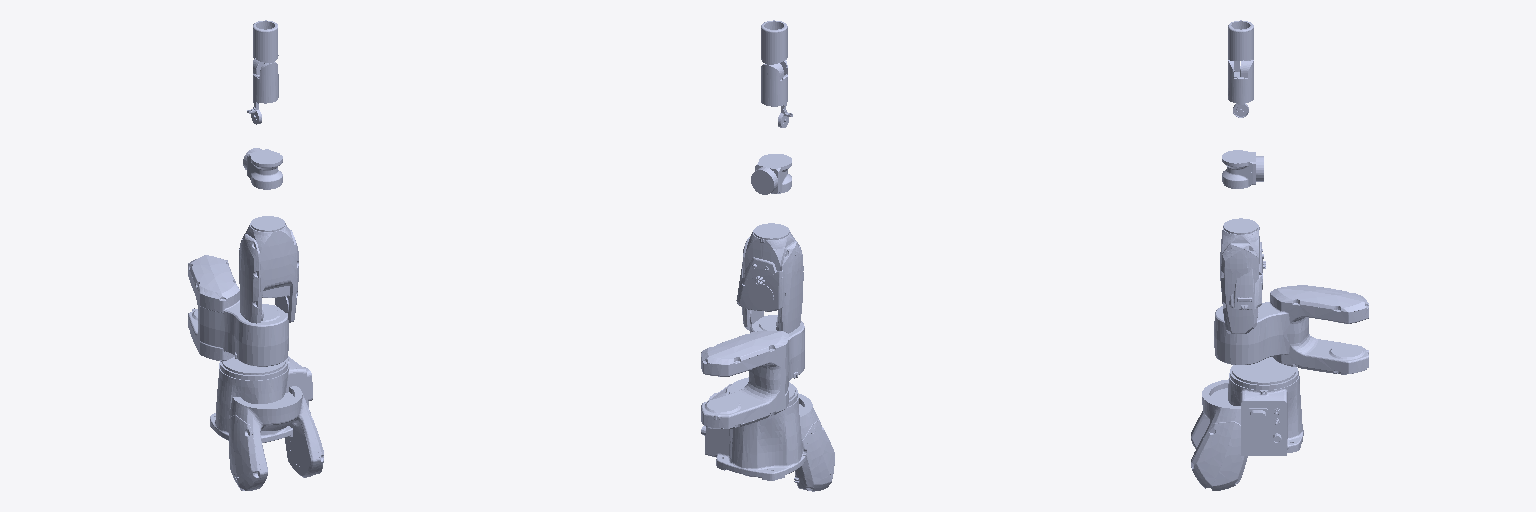
robot.urdf — snake_arm_description:
<?xml version="1.0"?>
<robot
  name="snake_arm_description">

  <link name="world" />

  <joint name="world_to_base_link" type="fixed">
    <parent link="world"/>
    <child link="link_0"/>
  </joint>

  <link
    name="link_0">
    <inertial>
      <origin
        xyz="-4.4729E-05 0.0001093 0.075199"
        rpy="0 0 0" />
      <mass
        value="0.48102" />
      <inertia
        ixx="0.0016739"
        ixy="1.507E-06"
        ixz="1.7594E-06"
        iyy="0.0017323"
        iyz="-4.257E-05"
        izz="0.0005214" />
    </inertial>
    <visual>
      <origin
        xyz="0 0 0"
        rpy="0 0 0" />
      <geometry>
        <mesh
          filename="package://snake_arm_description/meshes/link_0.STL" />
      </geometry>
      <material
        name="">
        <color
          rgba="0.79216 0.81961 0.93333 1" />
      </material>
    </visual>
    <collision>
      <origin
        xyz="0 0 0"
        rpy="0 0 0" />
      <geometry>
        <mesh
          filename="package://snake_arm_description/meshes/link_0.STL" />
      </geometry>
    </collision>
  </link>
  <link
    name="link_1">
    <inertial>
      <origin
        xyz="0.00871 -0.0013532 0.1245"
        rpy="0 0 0" />
      <mass
        value="0.37472" />
      <inertia
        ixx="0.0011935"
        ixy="-8.7083E-07"
        ixz="-4.8583E-05"
        iyy="0.0012712"
        iyz="3.2382E-05"
        izz="0.00034763" />
    </inertial>
    <visual>
      <origin
        xyz="0 0 0"
        rpy="0 0 0" />
      <geometry>
        <mesh
          filename="package://snake_arm_description/meshes/link_1.STL" />
      </geometry>
      <material
        name="">
        <color
          rgba="0.79216 0.81961 0.93333 1" />
      </material>
    </visual>
    <collision>
      <origin
        xyz="0 0 0"
        rpy="0 0 0" />
      <geometry>
        <mesh
          filename="package://snake_arm_description/meshes/link_1.STL" />
      </geometry>
    </collision>
  </link>
  <joint
    name="joint_0"
    type="revolute">
    <origin
      xyz="0 -0.01 0.135"
      rpy="0 0 1.5708" />
    <parent
      link="link_0" />
    <child
      link="link_1" />
    <axis
      xyz="1 0 0" />
    <limit
      lower="-1.5708"
      upper="1.5708"
      effort="0"
      velocity="0.1745" />
  </joint>
  <link
    name="link_2">
    <inertial>
      <origin
        xyz="0.00871 -0.0013532 0.1245"
        rpy="0 0 0" />
      <mass
        value="0.37472" />
      <inertia
        ixx="0.0011935"
        ixy="-8.7083E-07"
        ixz="-4.8583E-05"
        iyy="0.0012712"
        iyz="3.2382E-05"
        izz="0.00034763" />
    </inertial>
    <visual>
      <origin
        xyz="0 0 0"
        rpy="0 0 0" />
      <geometry>
        <mesh
          filename="package://snake_arm_description/meshes/link_2.STL" />
      </geometry>
      <material
        name="">
        <color
          rgba="0.79216 0.81961 0.93333 1" />
      </material>
    </visual>
    <collision>
      <origin
        xyz="0 0 0"
        rpy="0 0 0" />
      <geometry>
        <mesh
          filename="package://snake_arm_description/meshes/link_2.STL" />
      </geometry>
    </collision>
  </link>
  <joint
    name="joint_1"
    type="revolute">
    <origin
      xyz="0.01 0.01 0.17"
      rpy="0 0 -1.5708" />
    <parent
      link="link_1" />
    <child
      link="link_2" />
    <axis
      xyz="1 0 0" />
    <limit
      lower="-1.5708"
      upper="1.5708"
      effort="0"
      velocity="0.1745" />
  </joint>
  <link
    name="link_3">
    <inertial>
      <origin
        xyz="-0.0092113 -0.0012358 0.11639"
        rpy="0 0 0" />
      <mass
        value="0.30664" />
      <inertia
        ixx="0.00087659"
        ixy="-1.1893E-06"
        ixz="3.6915E-05"
        iyy="0.00086986"
        iyz="-2.665E-05"
        izz="0.00026908" />
    </inertial>
    <visual>
      <origin
        xyz="0 0 0"
        rpy="0 0 0" />
      <geometry>
        <mesh
          filename="package://snake_arm_description/meshes/link_3.STL" />
      </geometry>
      <material
        name="">
        <color
          rgba="0.79216 0.81961 0.93333 1" />
      </material>
    </visual>
    <collision>
      <origin
        xyz="0 0 0"
        rpy="0 0 0" />
      <geometry>
        <mesh
          filename="package://snake_arm_description/meshes/link_3.STL" />
      </geometry>
    </collision>
  </link>
  <joint
    name="joint_2"
    type="revolute">
    <origin
      xyz="0.01 0.01 0.17"
      rpy="1.6355E-32 1.8825E-16 1.5708" />
    <parent
      link="link_2" />
    <child
      link="link_3" />
    <axis
      xyz="-1 0 0" />
    <limit
      lower="-1.5708"
      upper="1.5708"
      effort="0"
      velocity="0.1745" />
  </joint>
  <link
    name="link_4">
    <inertial>
      <origin
        xyz="-0.0071513 -0.001245 0.11452"
        rpy="0 0 0" />
      <mass
        value="0.30403" />
      <inertia
        ixx="0.00082745"
        ixy="-1.2195E-06"
        ixz="3.7353E-05"
        iyy="0.00082575"
        iyz="-2.7039E-05"
        izz="0.00026963" />
    </inertial>
    <visual>
      <origin
        xyz="0 0 0"
        rpy="0 0 0" />
      <geometry>
        <mesh
          filename="package://snake_arm_description/meshes/link_4.STL" />
      </geometry>
      <material
        name="">
        <color
          rgba="0.79216 0.81961 0.93333 1" />
      </material>
    </visual>
    <collision>
      <origin
        xyz="0 0 0"
        rpy="0 0 0" />
      <geometry>
        <mesh
          filename="package://snake_arm_description/meshes/link_4.STL" />
      </geometry>
    </collision>
  </link>
  <joint
    name="joint_3"
    type="revolute">
    <origin
      xyz="-0.01 -0.008 0.164"
      rpy="1.8825E-16 0 -1.5708" />
    <parent
      link="link_3" />
    <child
      link="link_4" />
    <axis
      xyz="-1 0 0" />
    <limit
      lower="-1.5708"
      upper="1.5708"
      effort="0"
      velocity="0.1745" />
  </joint>
  <link
    name="link_5">
    <inertial>
      <origin
        xyz="0.0071513 0.001245 0.11452"
        rpy="0 0 0" />
      <mass
        value="0.30403" />
      <inertia
        ixx="0.00082745"
        ixy="-1.2195E-06"
        ixz="-3.7353E-05"
        iyy="0.00082575"
        iyz="2.7039E-05"
        izz="0.00026963" />
    </inertial>
    <visual>
      <origin
        xyz="0 0 0"
        rpy="0 0 0" />
      <geometry>
        <mesh
          filename="package://snake_arm_description/meshes/link_5.STL" />
      </geometry>
      <material
        name="">
        <color
          rgba="0.79216 0.81961 0.93333 1" />
      </material>
    </visual>
    <collision>
      <origin
        xyz="0 0 0"
        rpy="0 0 0" />
      <geometry>
        <mesh
          filename="package://snake_arm_description/meshes/link_5.STL" />
      </geometry>
    </collision>
  </link>
  <joint
    name="joint_4"
    type="revolute">
    <origin
      xyz="-0.008 -0.008 0.161"
      rpy="6.3966E-64 4.9304E-32 1.5708" />
    <parent
      link="link_4" />
    <child
      link="link_5" />
    <axis
      xyz="1 0 0" />
    <limit
      lower="-1.5708"
      upper="1.5708"
      effort="0"
      velocity="0.1745" />
  </joint>
  <link
    name="link_6">
    <inertial>
      <origin
        xyz="0.0048917 0.0022417 0.10273"
        rpy="0 0 0" />
      <mass
        value="0.10778" />
      <inertia
        ixx="0.00023402"
        ixy="-8.5749E-07"
        ixz="-3.2807E-05"
        iyy="0.00024219"
        iyz="-6.4841E-06"
        izz="6.9634E-05" />
    </inertial>
    <visual>
      <origin
        xyz="0 0 0"
        rpy="0 0 0" />
      <geometry>
        <mesh
          filename="package://snake_arm_description/meshes/link_6.STL" />
      </geometry>
      <material
        name="">
        <color
          rgba="0.79216 0.81961 0.93333 1" />
      </material>
    </visual>
    <collision>
      <origin
        xyz="0 0 0"
        rpy="0 0 0" />
      <geometry>
        <mesh
          filename="package://snake_arm_description/meshes/link_6.STL" />
      </geometry>
    </collision>
  </link>
  <joint
    name="joint_5"
    type="revolute">
    <origin
      xyz="0.008 0.008 0.161"
      rpy="4.9304E-32 0 -1.5708" />
    <parent
      link="link_5" />
    <child
      link="link_6" />
    <axis
      xyz="1 0 0" />
    <limit
      lower="-1.5708"
      upper="1.5708"
      effort="0"
      velocity="0.1745" />
  </joint>
  <link
    name="link_7">
    <inertial>
      <origin
        xyz="-0.00073318 -1.1397E-06 0.070942"
        rpy="0 0 0" />
      <mass
        value="0.06189" />
      <inertia
        ixx="0.00010919"
        ixy="-6.4144E-10"
        ixz="-2.8296E-06"
        iyy="0.00011192"
        iyz="-4.7723E-09"
        izz="6.0877E-05" />
    </inertial>
    <visual>
      <origin
        xyz="0 0 0"
        rpy="0 0 0" />
      <geometry>
        <mesh
          filename="package://snake_arm_description/meshes/link_7.STL" />
      </geometry>
      <material
        name="">
        <color
          rgba="0.79216 0.81961 0.93333 1" />
      </material>
    </visual>
    <collision>
      <origin
        xyz="0 0 0"
        rpy="0 0 0" />
      <geometry>
        <mesh
          filename="package://snake_arm_description/meshes/link_7.STL" />
      </geometry>
    </collision>
  </link>
  <joint
    name="joint_6"
    type="revolute">
    <origin
      xyz="0.008 0 0.13613"
      rpy="2.1894E-32 1.6653E-16 1.5708" />
    <parent
      link="link_6" />
    <child
      link="link_7" />
    <axis
      xyz="1 0 0" />
    <limit
      lower="-1.5708"
      upper="1.5708"
      effort="0"
      velocity="0.1745" />
  </joint>

  <transmission name="tran0">
    <type>transmission_interface/SimpleTransmission</type>
    <joint name="joint_0">
      <hardwareInterface>hardware_interface/PositionJointInterface</hardwareInterface>
    </joint>
    <actuator name="motor0">
      <mechanicalReduction>1</mechanicalReduction>
    </actuator>
  </transmission>

    <transmission name="tran1">
    <type>transmission_interface/SimpleTransmission</type>
    <joint name="joint_1">
      <hardwareInterface>hardware_interface/PositionJointInterface</hardwareInterface>
    </joint>
    <actuator name="motor1">
      <mechanicalReduction>1</mechanicalReduction>
    </actuator>
  </transmission>
  <transmission name="tran2">
    <type>transmission_interface/SimpleTransmission</type>
    <joint name="joint_2">
      <hardwareInterface>hardware_interface/PositionJointInterface</hardwareInterface>
    </joint>
    <actuator name="motor2">
      <mechanicalReduction>1</mechanicalReduction>
    </actuator>
  </transmission>
  <transmission name="tran3">
    <type>transmission_interface/SimpleTransmission</type>
    <joint name="joint_3">
      <hardwareInterface>hardware_interface/PositionJointInterface</hardwareInterface>
    </joint>
    <actuator name="motor3">
      <mechanicalReduction>1</mechanicalReduction>
    </actuator>
  </transmission>
  <transmission name="tran4">
    <type>transmission_interface/SimpleTransmission</type>
    <joint name="joint_4">
      <hardwareInterface>hardware_interface/PositionJointInterface</hardwareInterface>
    </joint>
    <actuator name="motor4">
      <mechanicalReduction>1</mechanicalReduction>
    </actuator>
  </transmission>
  <transmission name="tran5">
    <type>transmission_interface/SimpleTransmission</type>
    <joint name="joint_5">
      <hardwareInterface>hardware_interface/PositionJointInterface</hardwareInterface>
    </joint>
    <actuator name="motor5">
      <mechanicalReduction>1</mechanicalReduction>
    </actuator>
  </transmission>
  <transmission name="tran6">
    <type>transmission_interface/SimpleTransmission</type>
    <joint name="joint_6">
      <hardwareInterface>hardware_interface/PositionJointInterface</hardwareInterface>
    </joint>
    <actuator name="motor6">
      <mechanicalReduction>1</mechanicalReduction>
    </actuator>
  </transmission>

  <gazebo>
    <plugin name="ros_control" filename="libgazebo_ros_control.so">
      
    </plugin>
  </gazebo>

</robot>

--- Facts derived from the render (not from the file) ---
Views: 3 orthographic renders of the robot side by side, from view 1: azimuth 30°, elevation 25°; view 2: azimuth 150°, elevation 25°; view 3: azimuth 270°, elevation 25°.
Model snake_arm_description with 9 links and 8 joints (7 revolute, 1 fixed), rooted at world, posed every joint at zero.
Visible links, largest first — view 1: link_2, link_1, link_4, link_0, link_5, link_6, link_7; view 2: link_2, link_0, link_4, link_1, link_3, link_5, link_6, link_7; view 3: link_2, link_0, link_1, link_4, link_5, link_6, link_7, link_3.
Boxes of the visible links, x1=… form: link_2: x1=188, y1=255, x2=288, y2=366; link_1: x1=229, y1=386, x2=323, y2=490; link_4: x1=240, y1=216, x2=298, y2=323; link_0: x1=210, y1=356, x2=312, y2=442; link_5: x1=243, y1=148, x2=282, y2=189; link_6: x1=247, y1=59, x2=278, y2=124; link_7: x1=253, y1=20, x2=278, y2=63; link_2: x1=701, y1=315, x2=804, y2=428; link_0: x1=701, y1=377, x2=805, y2=480; link_4: x1=742, y1=223, x2=803, y2=333; link_1: x1=745, y1=393, x2=834, y2=491; link_3: x1=736, y1=257, x2=784, y2=311; link_5: x1=751, y1=154, x2=791, y2=194; link_6: x1=761, y1=60, x2=792, y2=127; link_7: x1=761, y1=20, x2=787, y2=64; link_2: x1=1214, y1=285, x2=1368, y2=374; link_0: x1=1228, y1=357, x2=1303, y2=455; link_1: x1=1191, y1=379, x2=1247, y2=490; link_4: x1=1220, y1=218, x2=1265, y2=333; link_5: x1=1222, y1=150, x2=1263, y2=188; link_6: x1=1228, y1=60, x2=1253, y2=117; link_7: x1=1228, y1=20, x2=1253, y2=71; link_3: x1=1229, y1=242, x2=1262, y2=309.
Bounding box of the posed robot: 0.292 × 0.4812 × 1.33 m (x, y, z).
Meshes: 8 distinct files referenced, 8 mesh visuals loaded (8 binary STL).